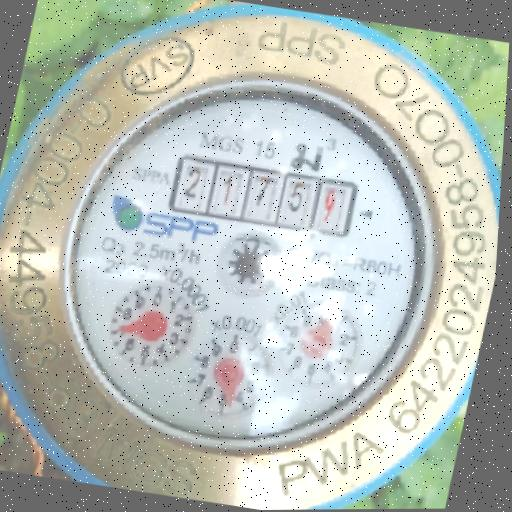1: (212, 171, 240, 215)
2: (178, 166, 208, 209)
5: (283, 183, 310, 225)
7: (247, 176, 275, 222)
9: (317, 187, 346, 230)
border_water_meter_number: (165, 153, 362, 240)
